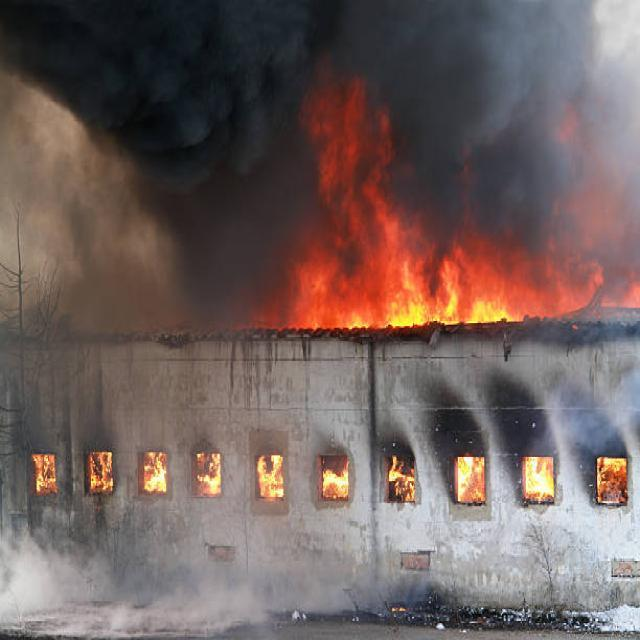Fire: (294, 92, 636, 322), (452, 452, 494, 514), (523, 453, 557, 508), (258, 460, 288, 506), (600, 458, 628, 507), (390, 458, 418, 497), (324, 452, 347, 499), (200, 453, 220, 497), (89, 457, 112, 495), (146, 452, 162, 496), (36, 452, 51, 491)
Smoke: (3, 0, 640, 199), (35, 179, 287, 316)
